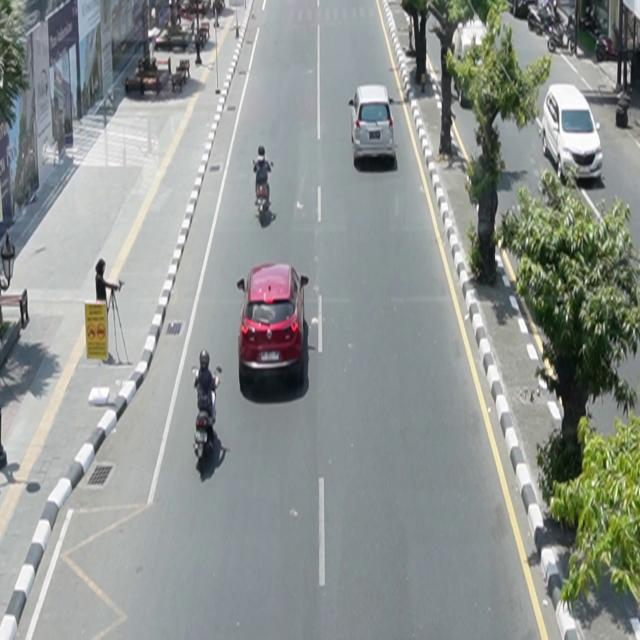car: (237, 263, 310, 386), (542, 84, 604, 184), (349, 85, 396, 165)
